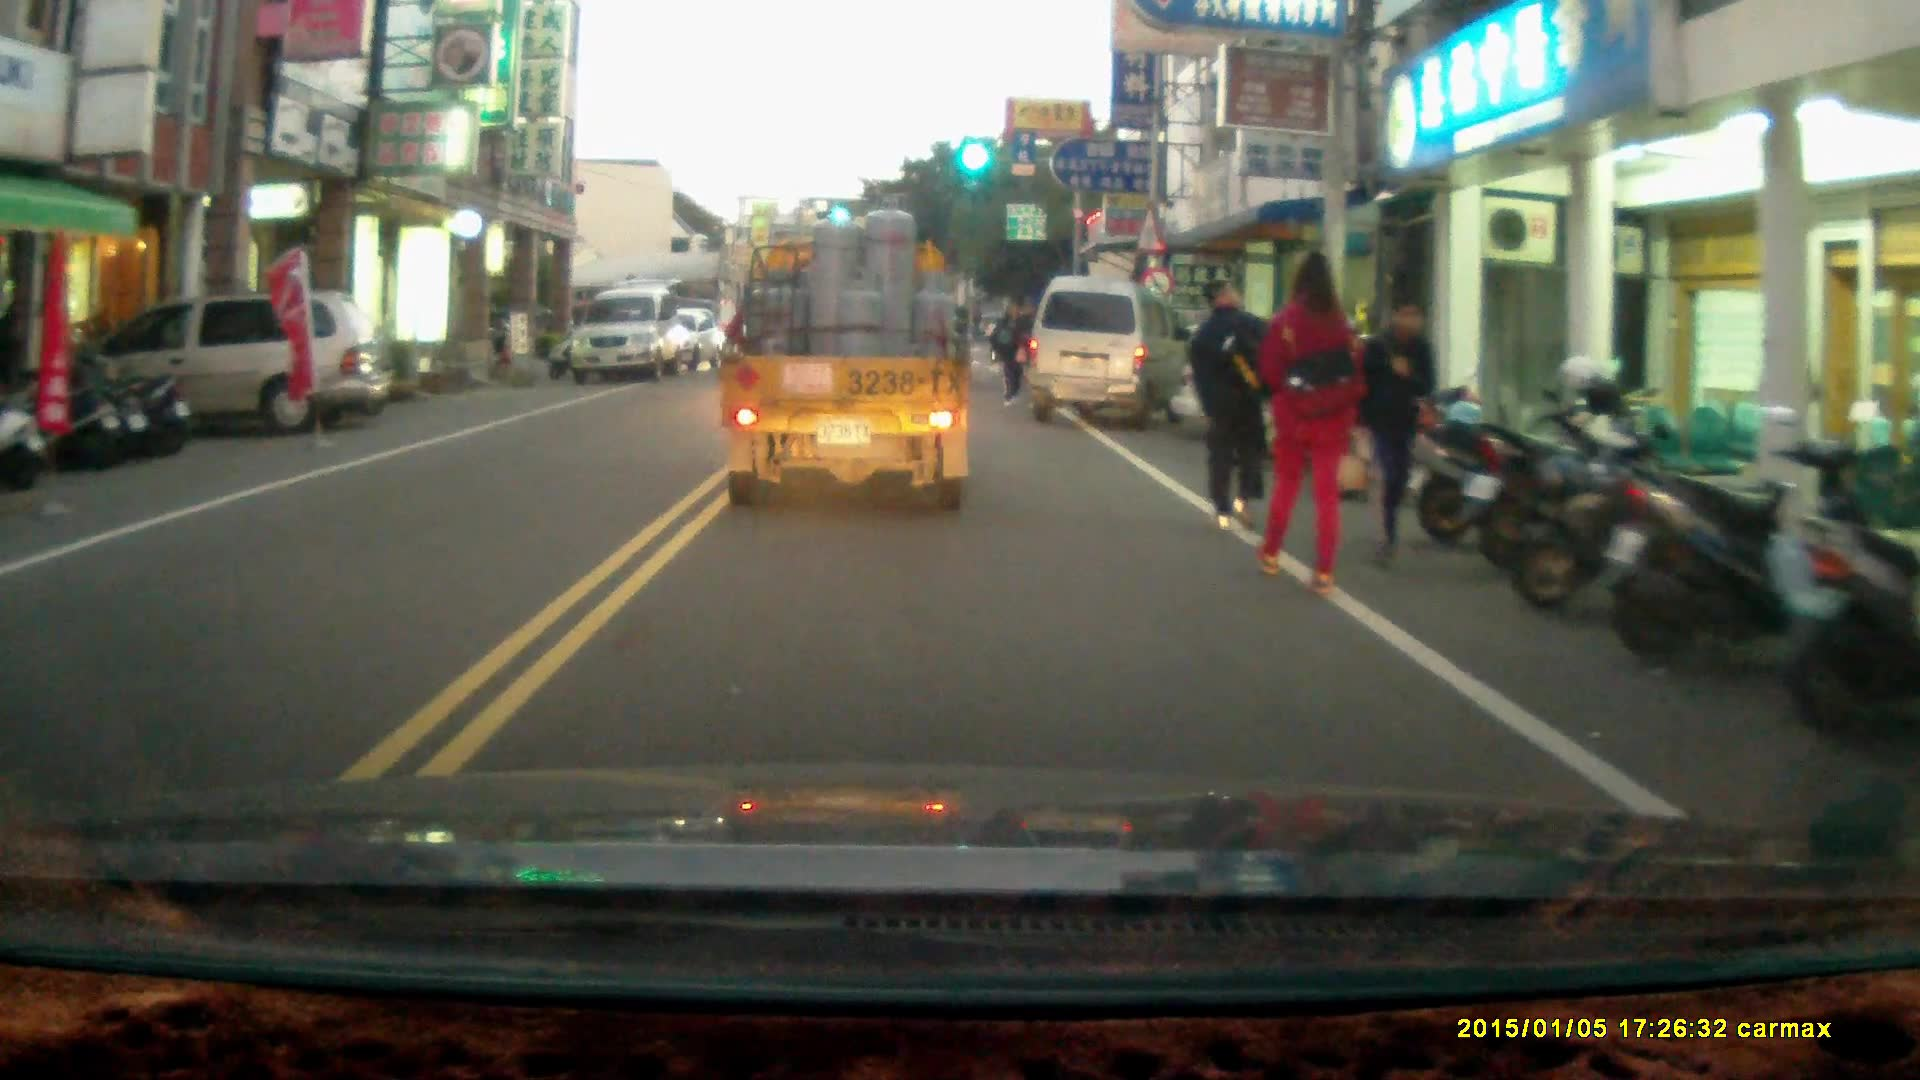pedestrian: (1256, 239, 1360, 597), (1184, 275, 1275, 533), (1357, 294, 1439, 571), (994, 300, 1029, 405)
vehicle: (713, 185, 980, 518), (78, 289, 391, 434), (1029, 272, 1185, 424), (576, 283, 696, 384)
